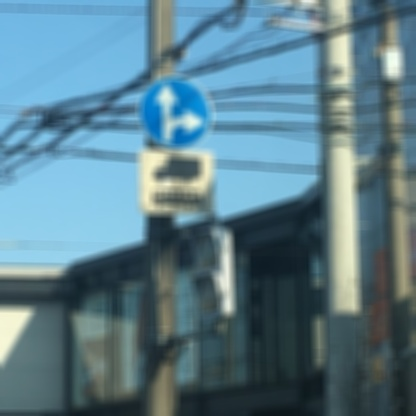Direction_sign: (138, 72, 226, 156)
